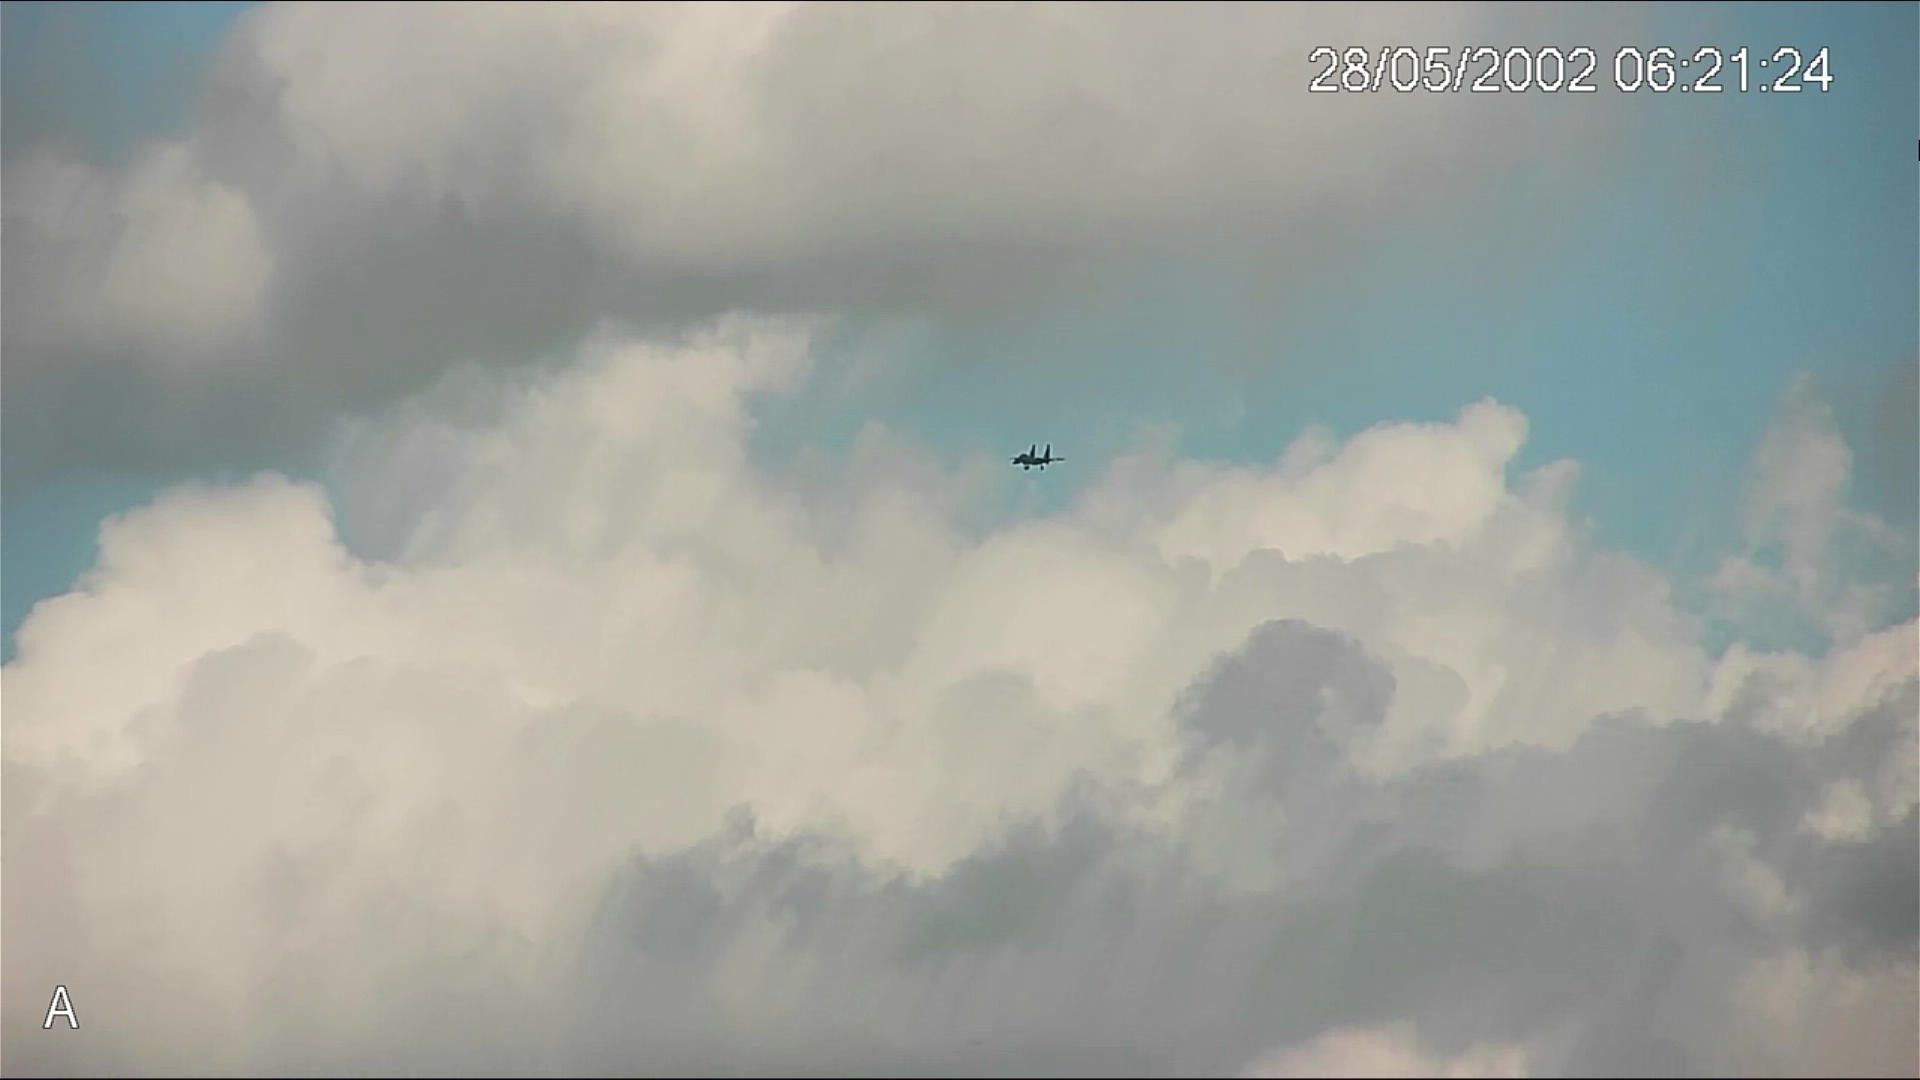SU_30: (1011, 442, 1064, 477)
